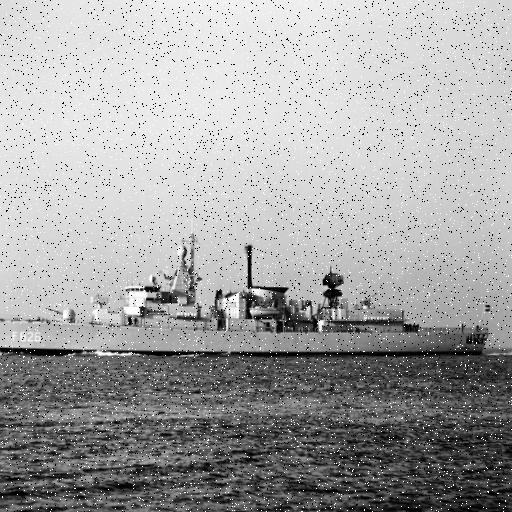Fragata: (1, 235, 492, 361)
